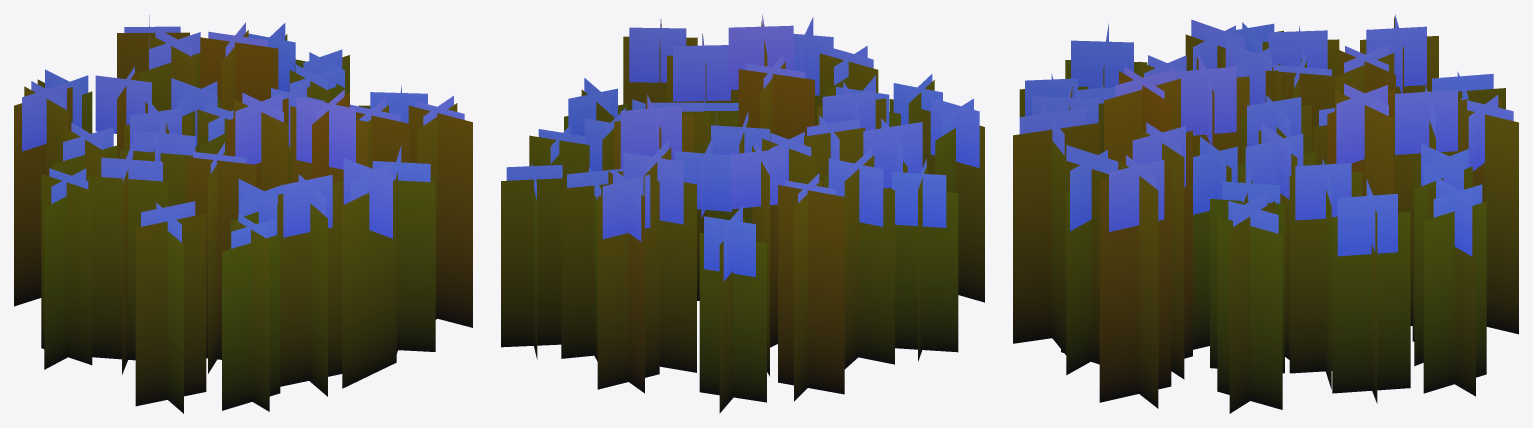
File: SM_Env_CropField_Clump_01.FBX
3 renders of one model, left to right at view 1: azimuth 30°, elevation 25°; view 2: azimuth 150°, elevation 25°; view 3: azimuth 270°, elevation 25°, orthographic. The views are drawn at different scales.
Parts seen in each view (by area): view 1: SM_Env_CropField_Clump_01; view 2: SM_Env_CropField_Clump_01; view 3: SM_Env_CropField_Clump_01.
Part boxes in pixels (x1,y1,x2,y2): SM_Env_CropField_Clump_01: (14, 15, 472, 413); SM_Env_CropField_Clump_01: (501, 14, 984, 413); SM_Env_CropField_Clump_01: (1013, 14, 1518, 413).
Size of the model in its own units: 217 by 228 by 130.
